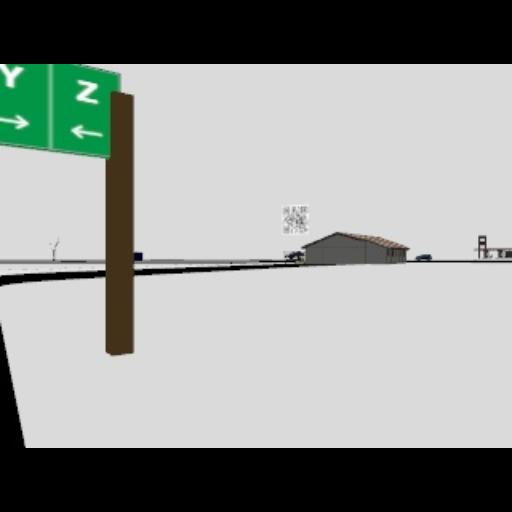Left: (69, 123, 103, 139)
Right: (0, 112, 30, 130)
Y: (0, 64, 24, 88)
Z: (75, 78, 99, 104)
